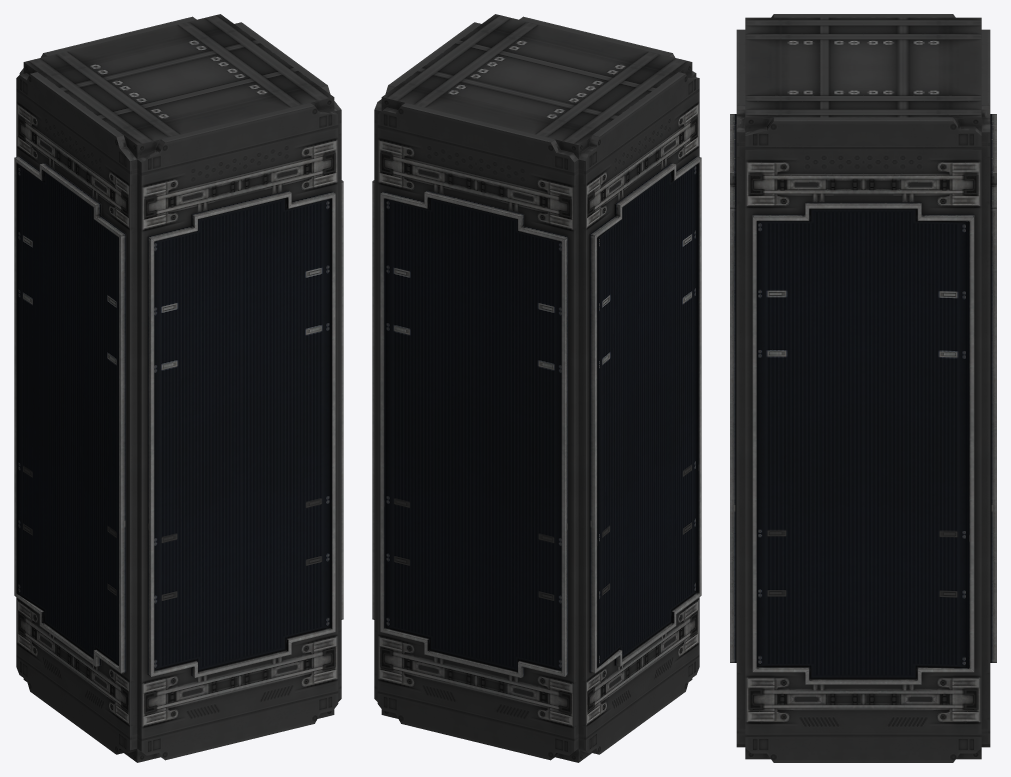
Rendered from Panel_C_Column_1.FBX.
3 renders of one model, left to right at view 1: azimuth 30°, elevation 25°; view 2: azimuth 150°, elevation 25°; view 3: azimuth 270°, elevation 25°, orthographic. The views are drawn at different scales.
Visible parts, largest first — view 1: Panel_C_Column_1; view 2: Panel_C_Column_1; view 3: Panel_C_Column_1.
Part boxes in pixels (bbox=[...]): Panel_C_Column_1: bbox=[14, 14, 343, 762]; Panel_C_Column_1: bbox=[372, 14, 701, 762]; Panel_C_Column_1: bbox=[730, 14, 996, 762].
Bounding box in the file's own units: 113 × 300 × 113.
